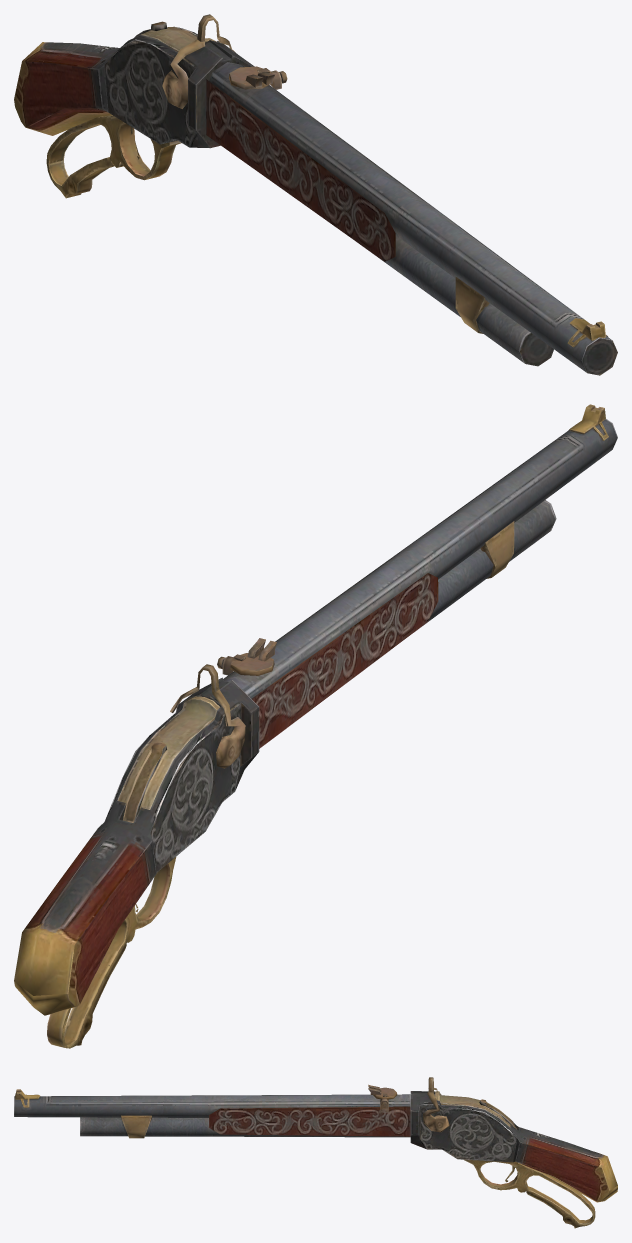
File: Shotgun_sdq_02_lod1_Body_LOD_(000998).glb
The picture shows the model from 3 angles, top to bottom: view 1: azimuth 30°, elevation 25°; view 2: azimuth 150°, elevation 25°; view 3: azimuth 270°, elevation 25°; orthographic projection. The views are drawn at different scales.
Visible parts, largest first — view 1: sdq_02_lod1; view 2: sdq_02_lod1; view 3: sdq_02_lod1.
Boxes of the visible parts, box(x1,y1,x2,y2) form: sdq_02_lod1: box(14, 14, 617, 375); sdq_02_lod1: box(14, 404, 617, 1048); sdq_02_lod1: box(14, 1077, 617, 1228).
Bounding box in the file's own units: 0.0926 × 0.3855 × 1.42.
1 material, 1 textured.
